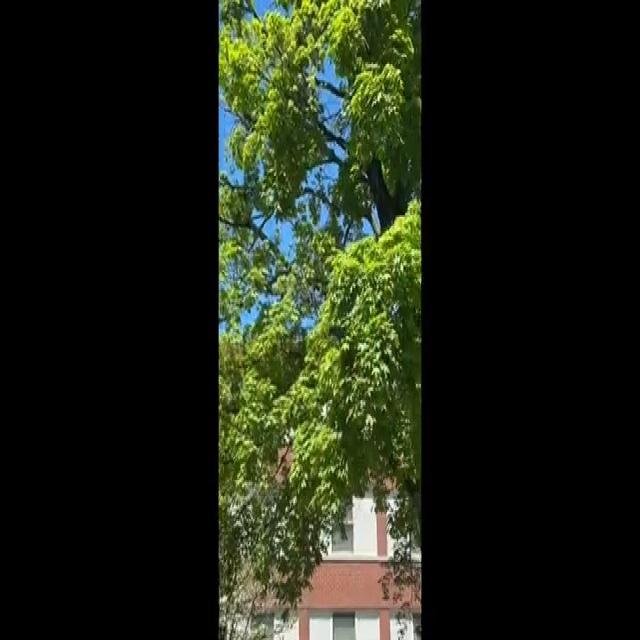drone: (299, 264, 336, 308)
